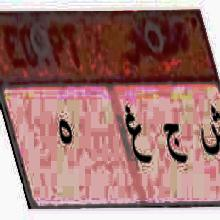5: (56, 107, 76, 153)
ghayn: (123, 94, 152, 172)
jeem: (160, 114, 188, 176)
sheen: (197, 95, 220, 159)
